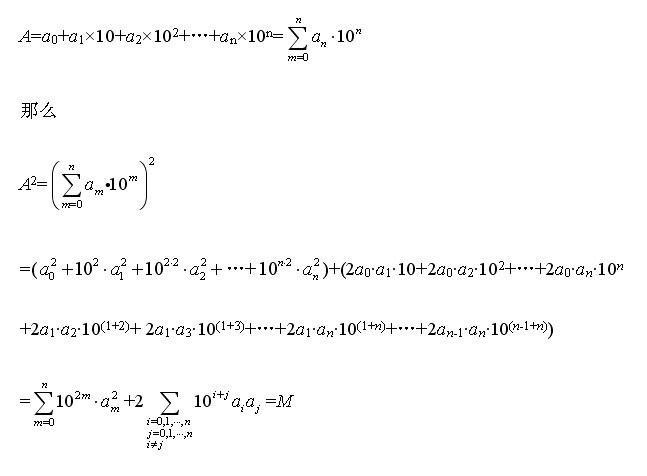square: (311, 257, 322, 269), (108, 388, 119, 400), (147, 153, 156, 167), (498, 260, 508, 272), (119, 254, 128, 267), (89, 256, 99, 267), (199, 254, 206, 269), (171, 26, 179, 39), (49, 256, 57, 267)
